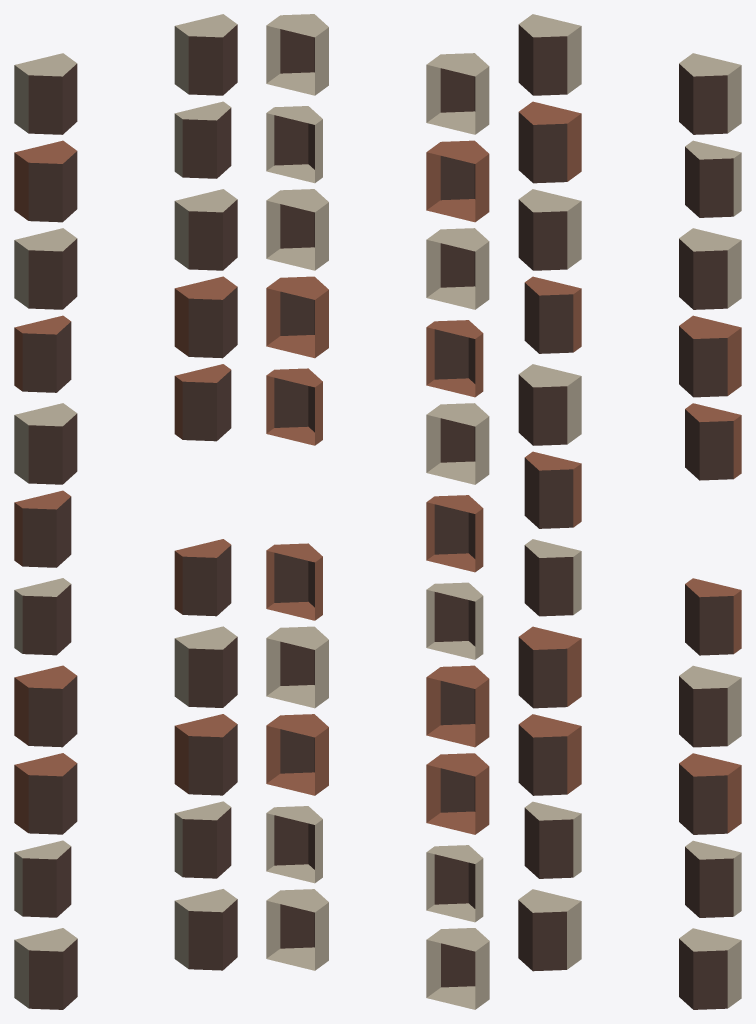
Rendered from island_bldg_18_04.obj.
The picture shows the model from 3 angles, left to right: view 1: azimuth 30°, elevation 25°; view 2: azimuth 150°, elevation 25°; view 3: azimuth 330°, elevation 25°; orthographic projection.
Parts seen in each view (by area): view 1: island_bldg_18_04; view 2: island_bldg_18_04; view 3: island_bldg_18_04.
Part boxes in pixels (bbox=[...]): island_bldg_18_04: bbox=[14, 14, 237, 1009]; island_bldg_18_04: bbox=[266, 14, 489, 1009]; island_bldg_18_04: bbox=[518, 14, 741, 1009].
Bounding box in the file's own units: 60 × 256 × 12.13.
